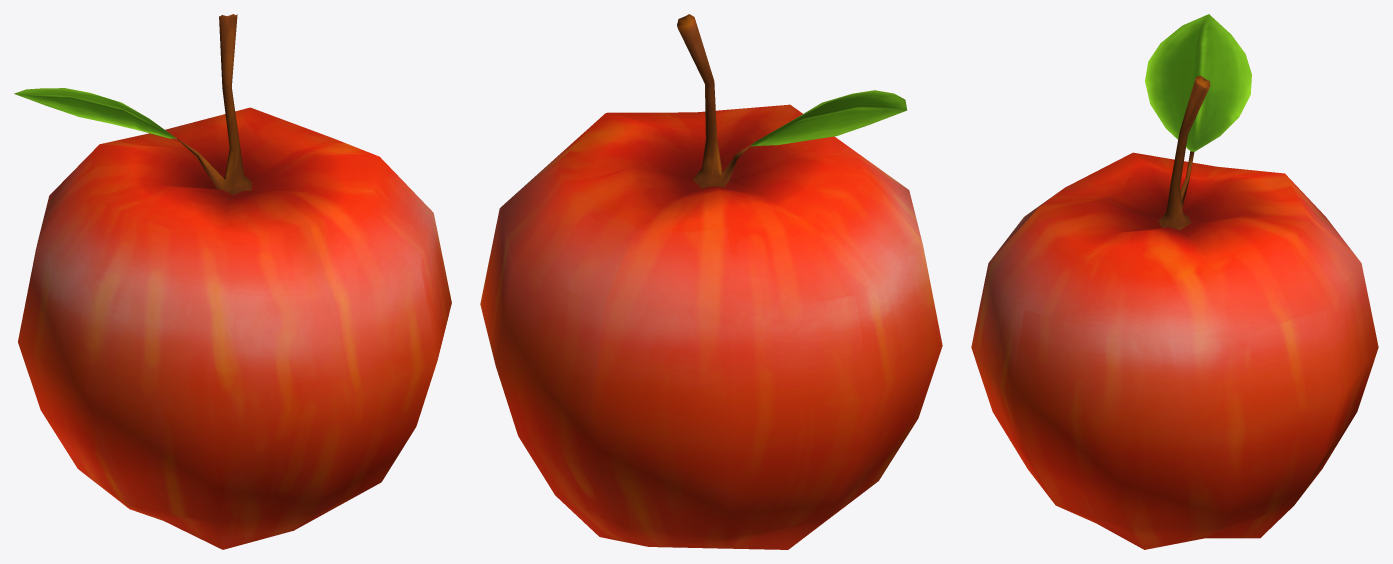
Rendered from apple.fbx.
3 renders of one model, left to right at view 1: azimuth 30°, elevation 25°; view 2: azimuth 150°, elevation 25°; view 3: azimuth 270°, elevation 25°, orthographic. The views are drawn at different scales.
Visible parts, largest first — view 1: apple; view 2: apple; view 3: apple.
Part boxes in pixels (x1,y1,x2,y2): apple: [14, 14, 451, 549]; apple: [480, 14, 942, 549]; apple: [971, 14, 1378, 549].
Size of the model in its own units: 1.86 by 2.24 by 1.86.
